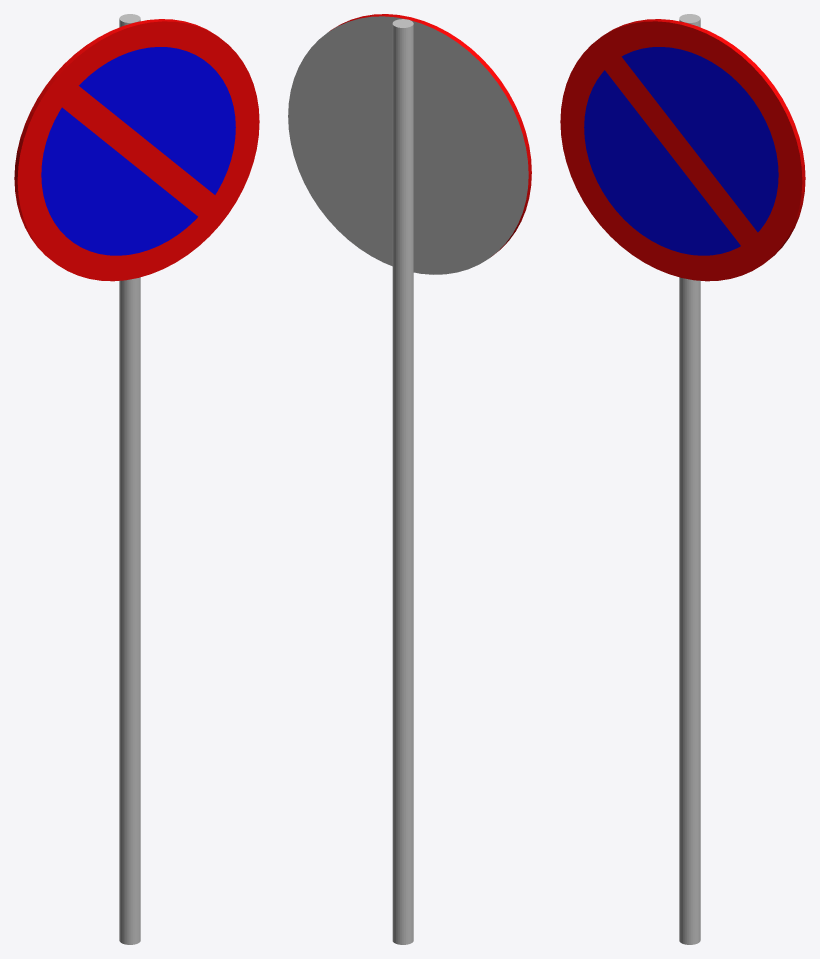
File: noparking.obj
The picture shows the model from 3 angles, left to right: view 1: azimuth 30°, elevation 25°; view 2: azimuth 150°, elevation 25°; view 3: azimuth 330°, elevation 25°; orthographic projection.
Parts seen in each view (by area): view 1: Plane_Plane.001, Cylinder; view 2: Plane_Plane.001, Cylinder; view 3: Plane_Plane.001, Cylinder.
Boxes of the visible parts, bbox=[...] form: Plane_Plane.001: bbox=[14, 19, 259, 281]; Cylinder: bbox=[119, 14, 140, 944]; Plane_Plane.001: bbox=[288, 14, 531, 274]; Cylinder: bbox=[392, 19, 413, 944]; Plane_Plane.001: bbox=[560, 19, 805, 281]; Cylinder: bbox=[679, 14, 700, 944].
Size of the model in its own units: 0.8924 by 3.25 by 0.0888.
